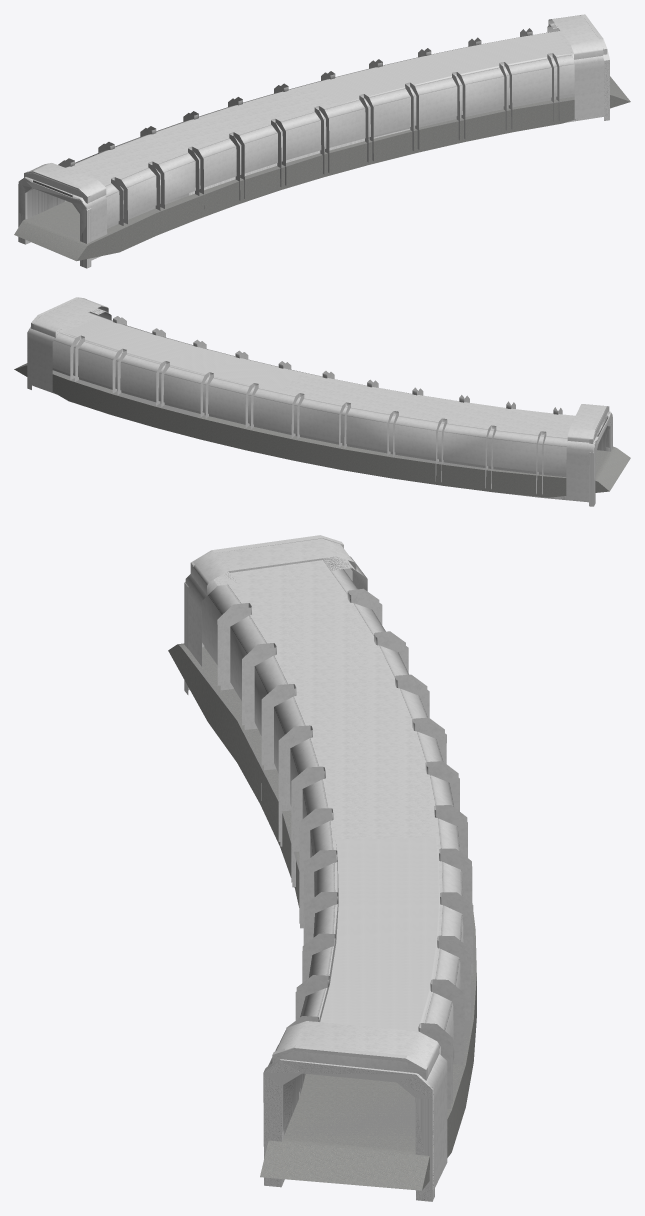
Rendered from SI_tunnel01.dae.
The picture shows the model from 3 angles, top to bottom: view 1: azimuth 30°, elevation 25°; view 2: azimuth 150°, elevation 25°; view 3: azimuth 270°, elevation 25°; orthographic projection. The views are drawn at different scales.
Visible parts, largest first — view 1: si_tunnel450, Colmesh-1, si_tunnel1000, si_tunnel100; view 2: si_tunnel450, Colmesh-1, si_tunnel1000, si_tunnel100; view 3: si_tunnel450, Colmesh-1, si_tunnel1000, si_tunnel100.
Part boxes in pixels (left/top/right/bottom): si_tunnel450: left=18, top=15, right=604, bottom=260; Colmesh-1: left=14, top=14, right=630, bottom=268; si_tunnel1000: left=19, top=24, right=572, bottom=225; si_tunnel100: left=29, top=24, right=574, bottom=243; si_tunnel450: left=27, top=297, right=612, bottom=500; Colmesh-1: left=14, top=297, right=630, bottom=506; si_tunnel1000: left=27, top=309, right=612, bottom=494; si_tunnel100: left=52, top=309, right=608, bottom=473; si_tunnel450: left=185, top=538, right=463, bottom=1190; Colmesh-1: left=168, top=535, right=476, bottom=1201; si_tunnel1000: left=202, top=558, right=473, bottom=1185; si_tunnel100: left=181, top=557, right=476, bottom=1150.
Bounding box in the file's own units: 6520 × 1524 × 761.
